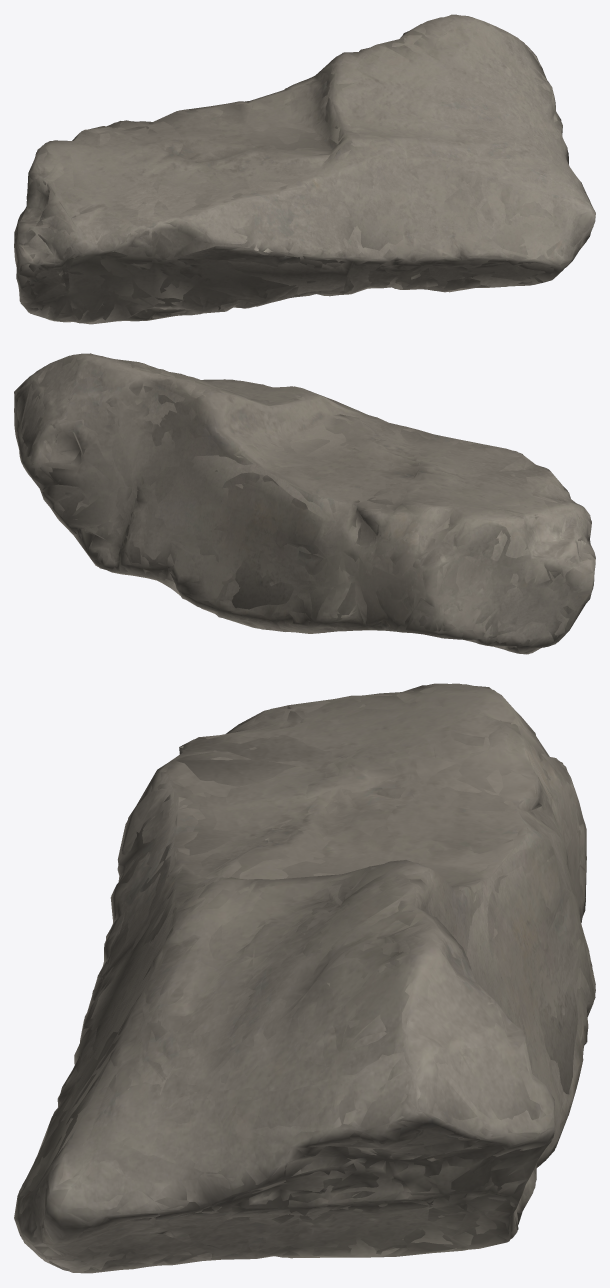
File: rock_b.glb
The picture shows the model from 3 angles, top to bottom: view 1: azimuth 30°, elevation 25°; view 2: azimuth 150°, elevation 25°; view 3: azimuth 270°, elevation 25°; orthographic projection. The views are drawn at different scales.
Parts seen in each view (by area): view 1: rock_b; view 2: rock_b; view 3: rock_b.
Boxes of the visible parts, box(x1,y1,x2,y2) form: rock_b: box(14, 14, 595, 324); rock_b: box(14, 353, 595, 654); rock_b: box(14, 683, 595, 1273).
Bounding box in the file's own units: 2.82 × 1 × 1.48.
1 material, 1 textured.
